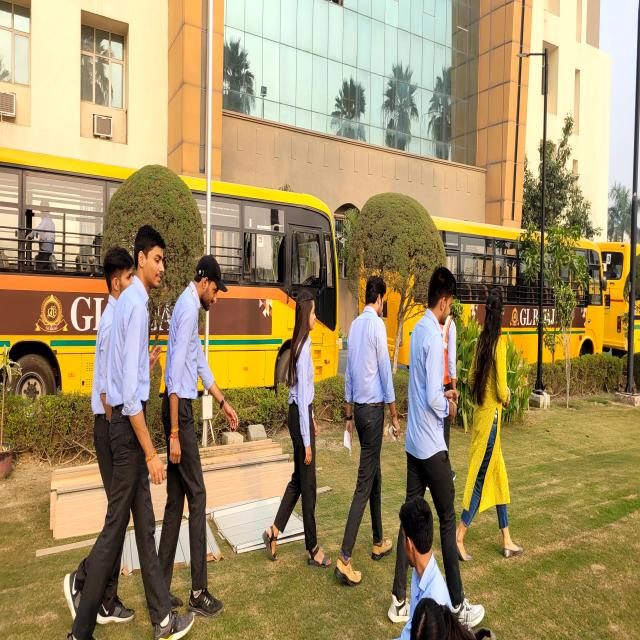unsafe: (79, 220, 169, 640), (158, 247, 226, 613), (393, 264, 462, 613), (338, 272, 393, 588), (460, 281, 516, 564), (268, 283, 321, 566)
